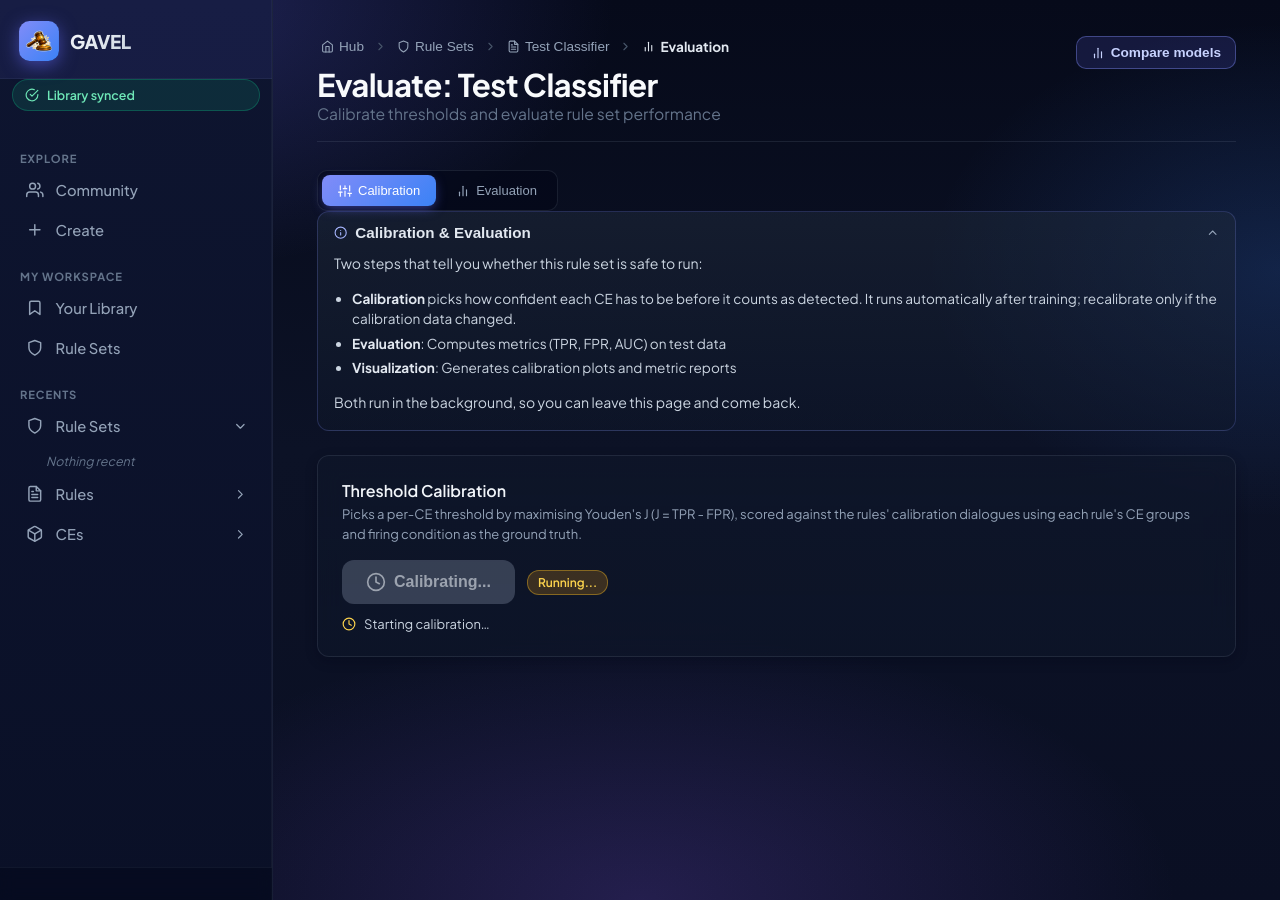
Evaluation — Evaluation tab: single test set per rule › keeps evaluation locked while calibration is still running (even with ready test sets)
Expected: the heading "Evaluate: Test Classifier" is shown, x1=317 y1=65 x2=658 y2=104
Click the button "Evaluation" at (497, 190), box x1=440 y1=175 x2=553 y2=206
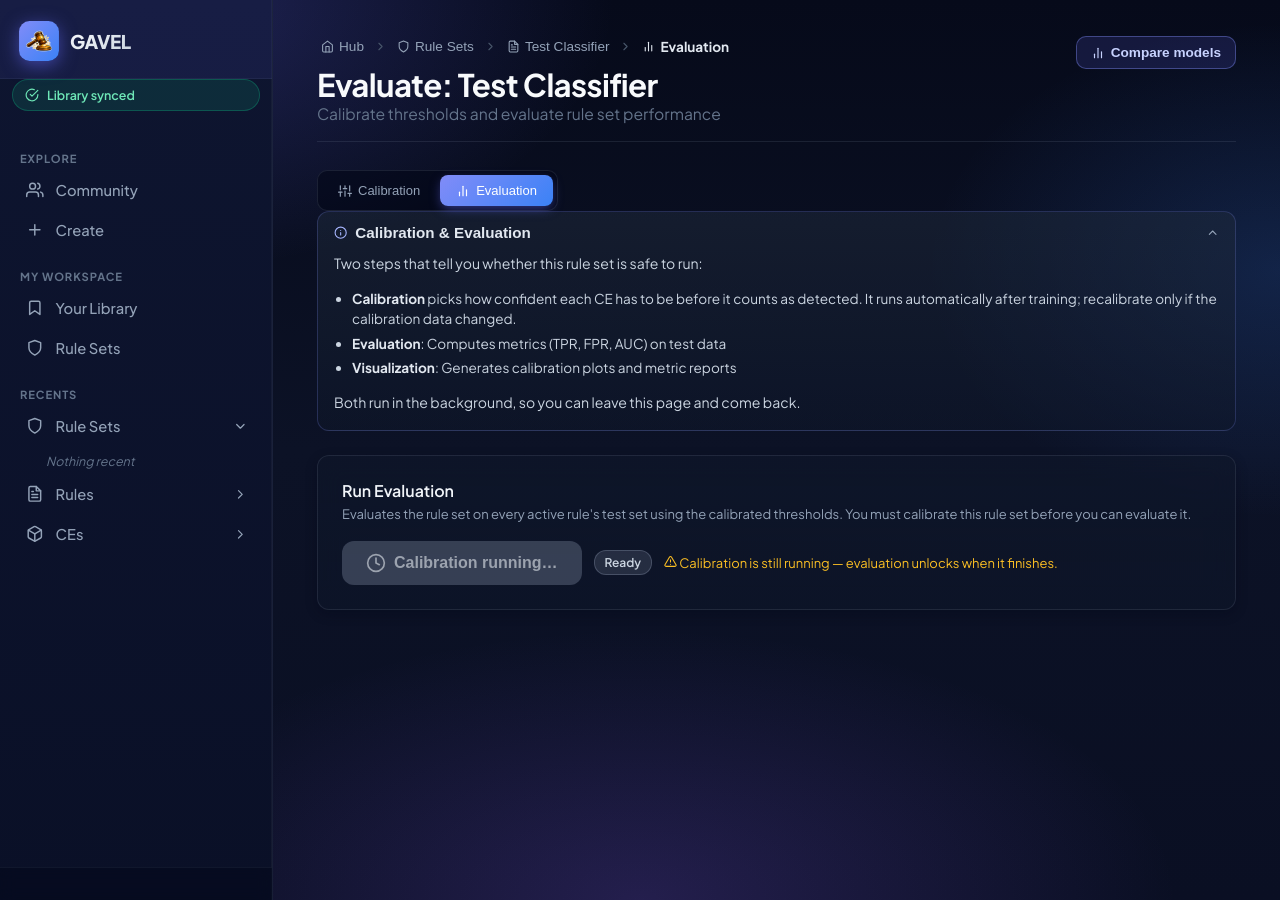
Expected: the button "Calibration running…" is disabled, x1=342 y1=541 x2=582 y2=585
Now the text "evaluation unlocks when it finishes" is shown, box x1=677 y1=555 x2=1058 y2=571
